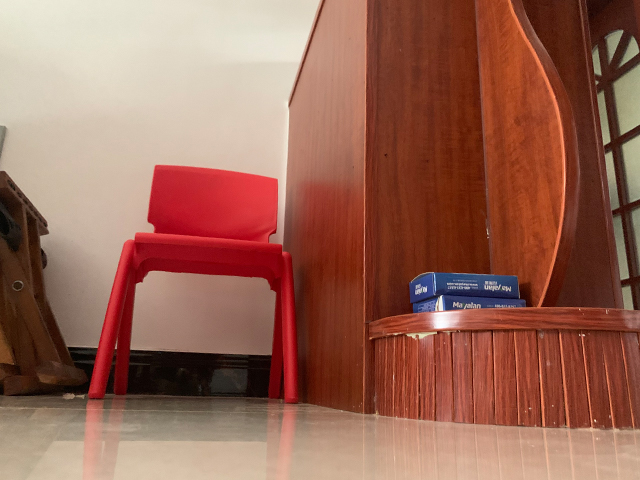cabinet: (279, 1, 640, 431)
stool: (86, 162, 301, 402), (1, 169, 88, 398)
